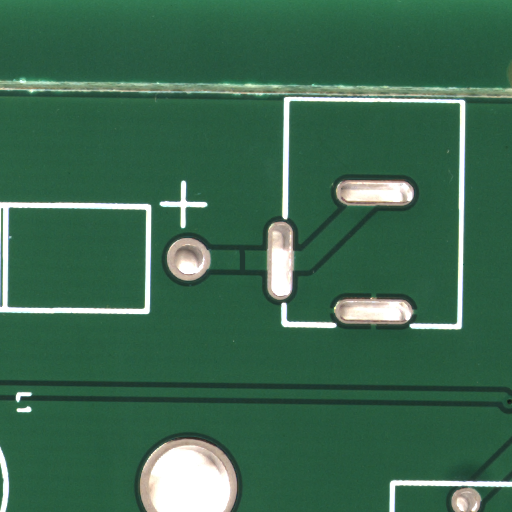Open_circuit: (242, 260, 249, 281)
